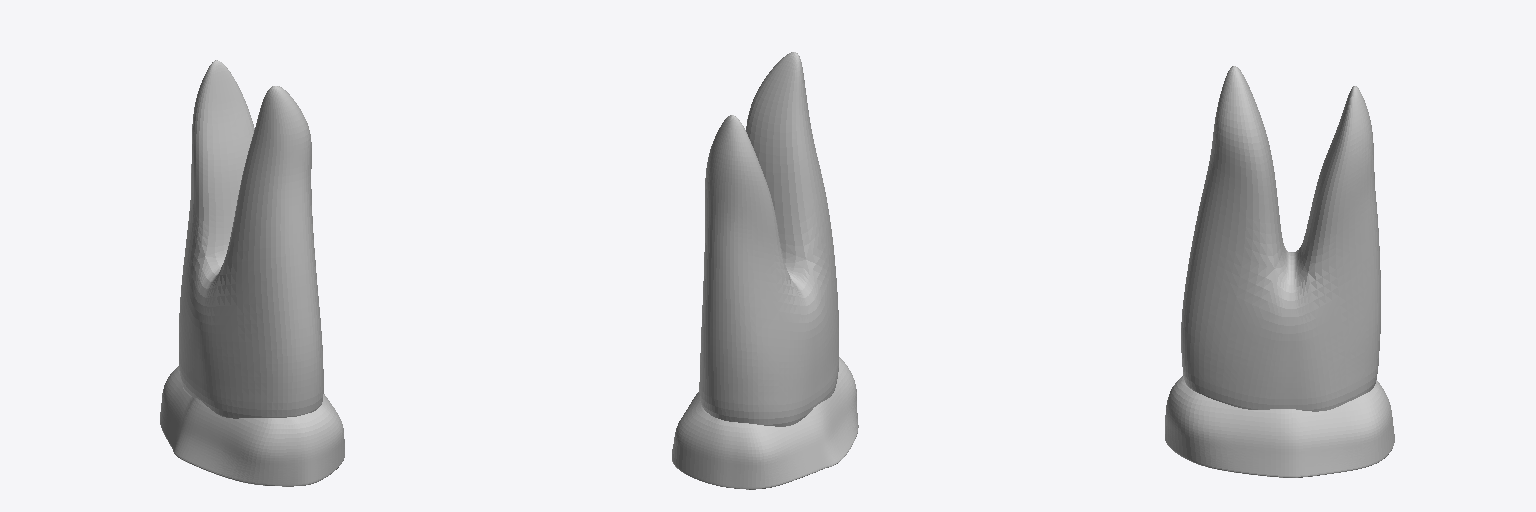
File: Transversal.obj
3 views of the same model, side by side, from view 1: azimuth 30°, elevation 25°; view 2: azimuth 150°, elevation 25°; view 3: azimuth 270°, elevation 25° (orthographic).
Visible parts, largest first — view 1: Cylinder, Cylinder.001; view 2: Cylinder, Cylinder.001; view 3: Cylinder, Cylinder.001.
Part boxes in pixels (bbox=[...]): Cylinder: bbox=[179, 60, 323, 418]; Cylinder.001: bbox=[160, 366, 344, 486]; Cylinder: bbox=[699, 52, 838, 426]; Cylinder.001: bbox=[672, 357, 858, 489]; Cylinder: bbox=[1181, 66, 1380, 411]; Cylinder.001: bbox=[1165, 375, 1394, 477].
Size of the model in its own units: 1.55 by 3.73 by 2.07.